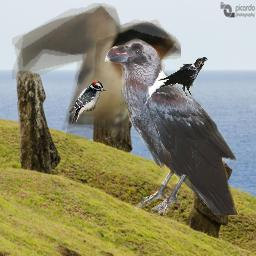Crow: (104, 38, 239, 215), (157, 57, 208, 96)
Swallow: (12, 3, 181, 139)
Woodpecker: (69, 81, 107, 125)
